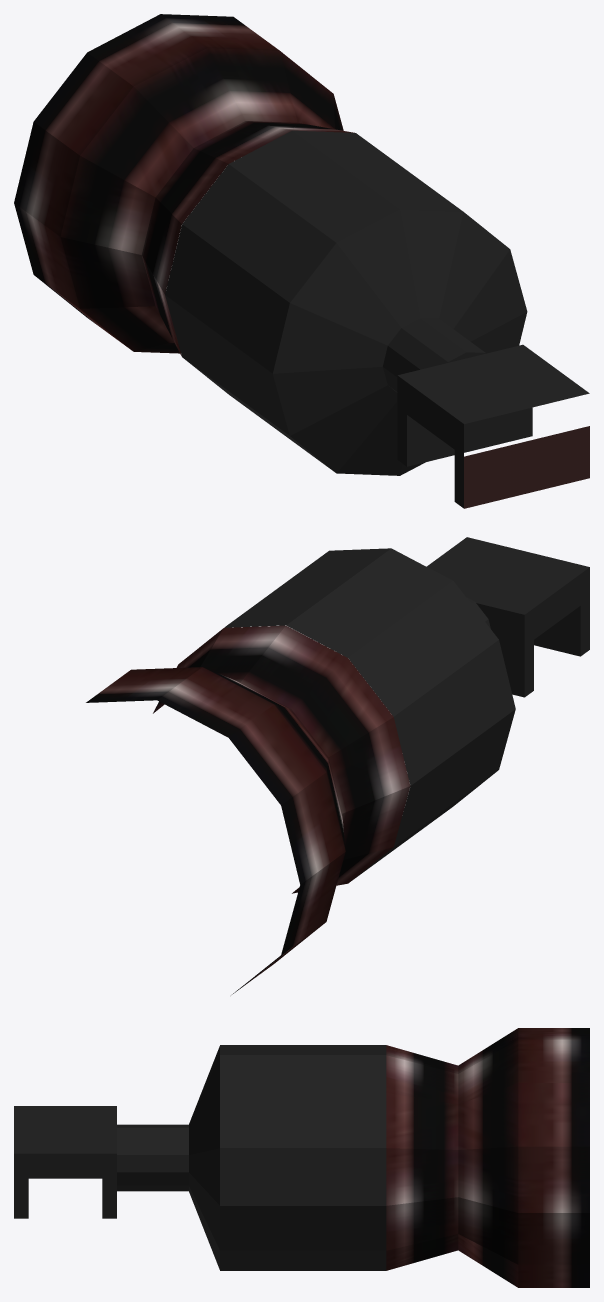
File: zcjyz003-geode.glb
The picture shows the model from 3 angles, top to bottom: view 1: azimuth 30°, elevation 25°; view 2: azimuth 150°, elevation 25°; view 3: azimuth 270°, elevation 25°; orthographic projection. The views are drawn at different scales.
Parts seen in each view (by area): view 1: Node; view 2: Node; view 3: Node.
Part boxes in pixels (x1,y1,x2,y2): Node: (14,14,589,508); Node: (86,537,589,994); Node: (14,1028,589,1287).
Size of the model in its own units: 0.0963 by 0.0963 by 0.2126.
3 materials, 3 textured.
